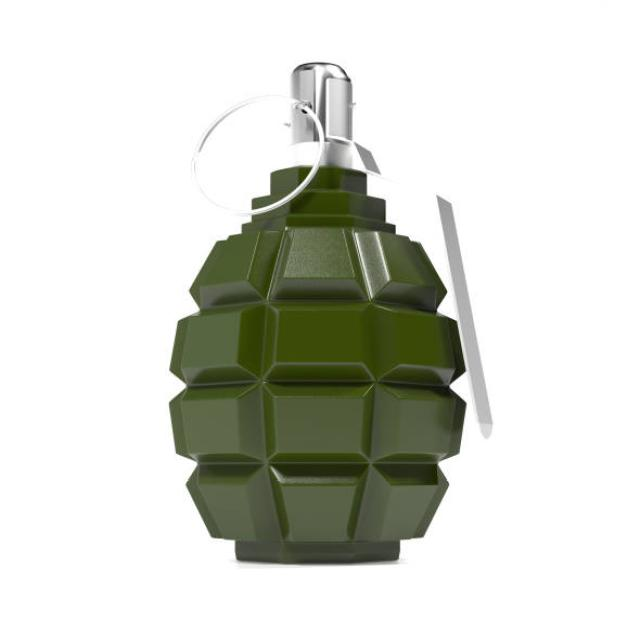grenade: (157, 42, 506, 581)
